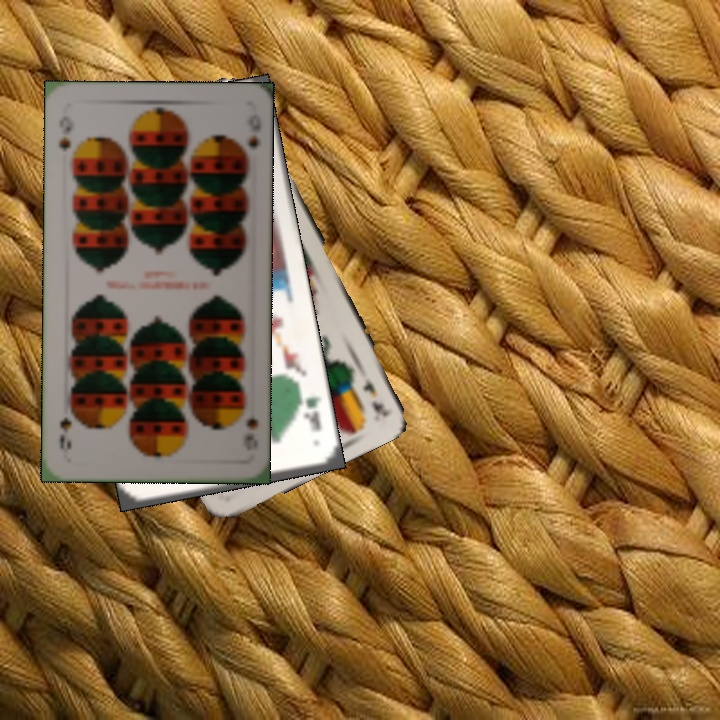EK: (359, 375, 391, 417)
GK: (295, 389, 324, 434)
S9: (55, 111, 76, 154), (235, 398, 261, 432)
